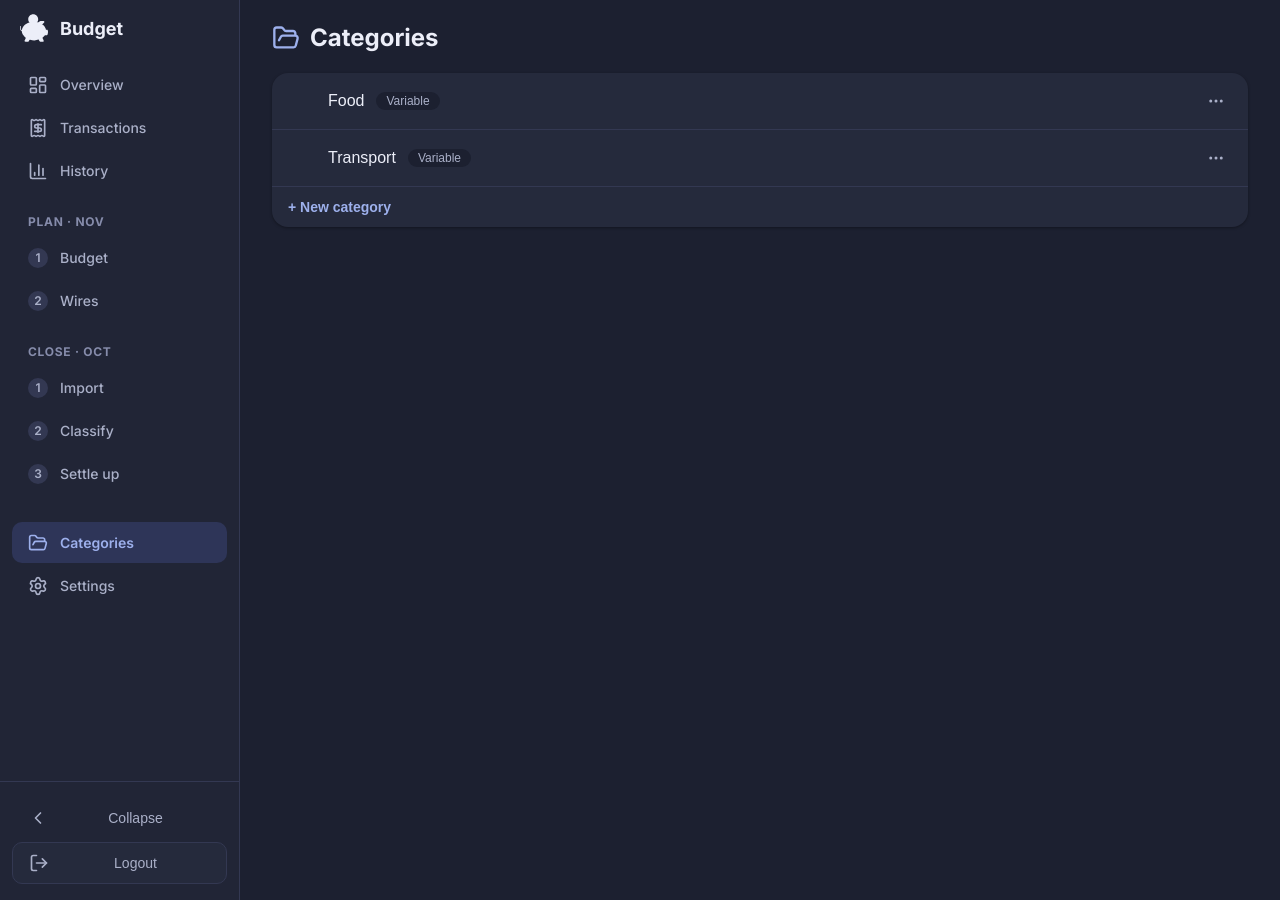
Test: Categories Page › should display categories and allow adding new ones
Check: the text "Food" is shown, box [328,92,364,110]
Check: the text "Transport" is shown, box [328,149,396,167]
Click the button "+ New category" at [340, 207], box [272,187,1248,227]
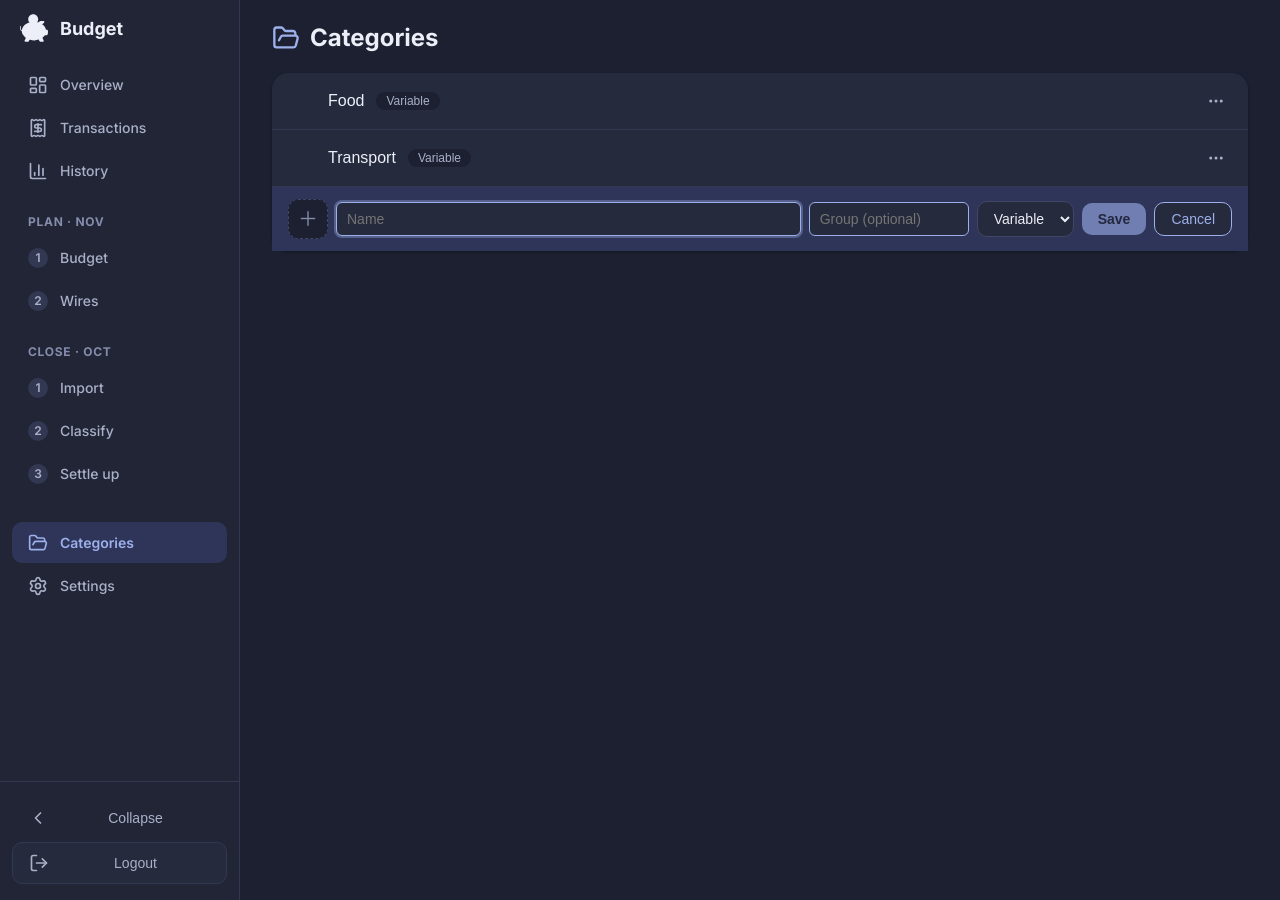
Type "Entertainment" into the field named "Category name" at [568, 219], box [336,202,801,236]
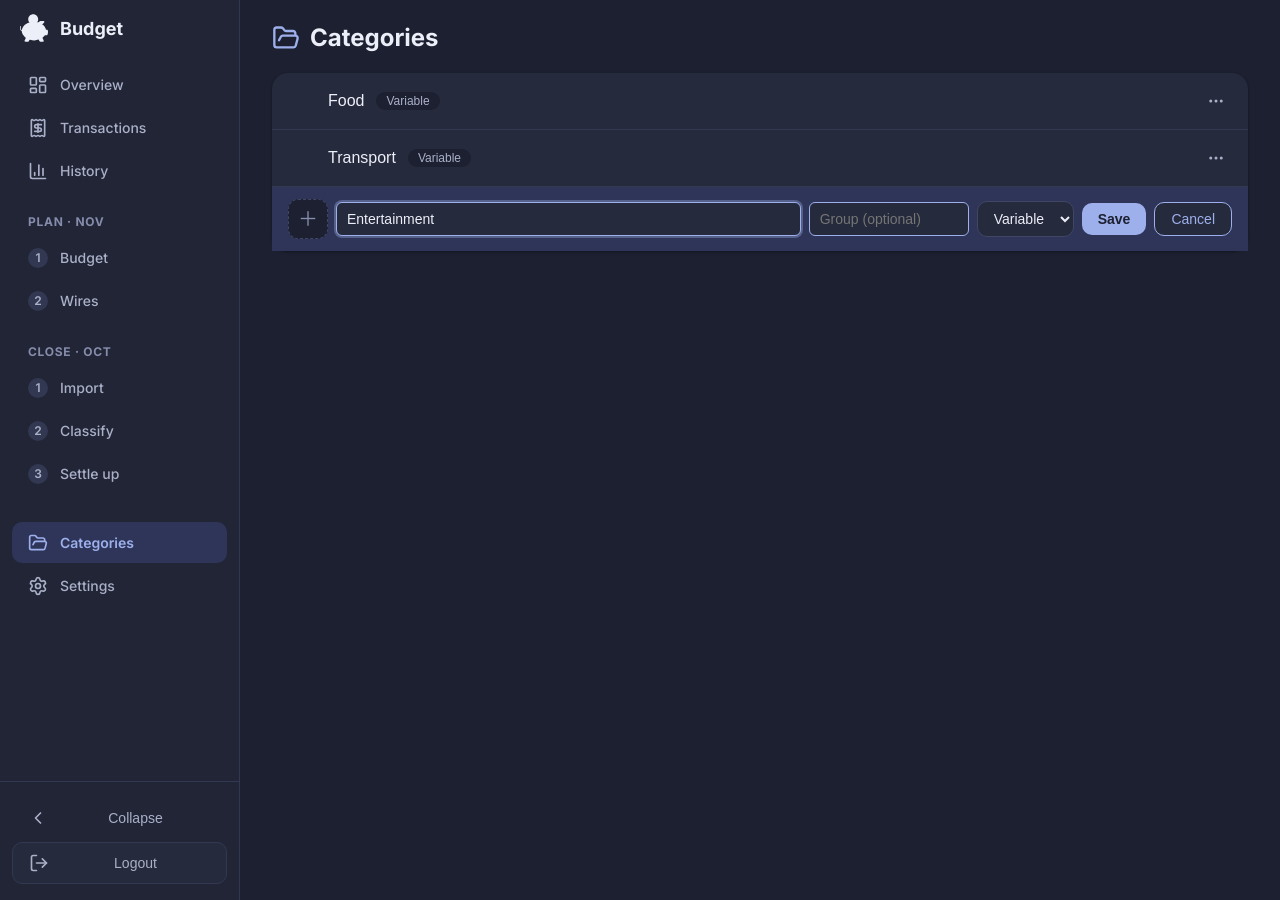
Click the button "Save" at [1114, 219], box [1082,203,1146,235]
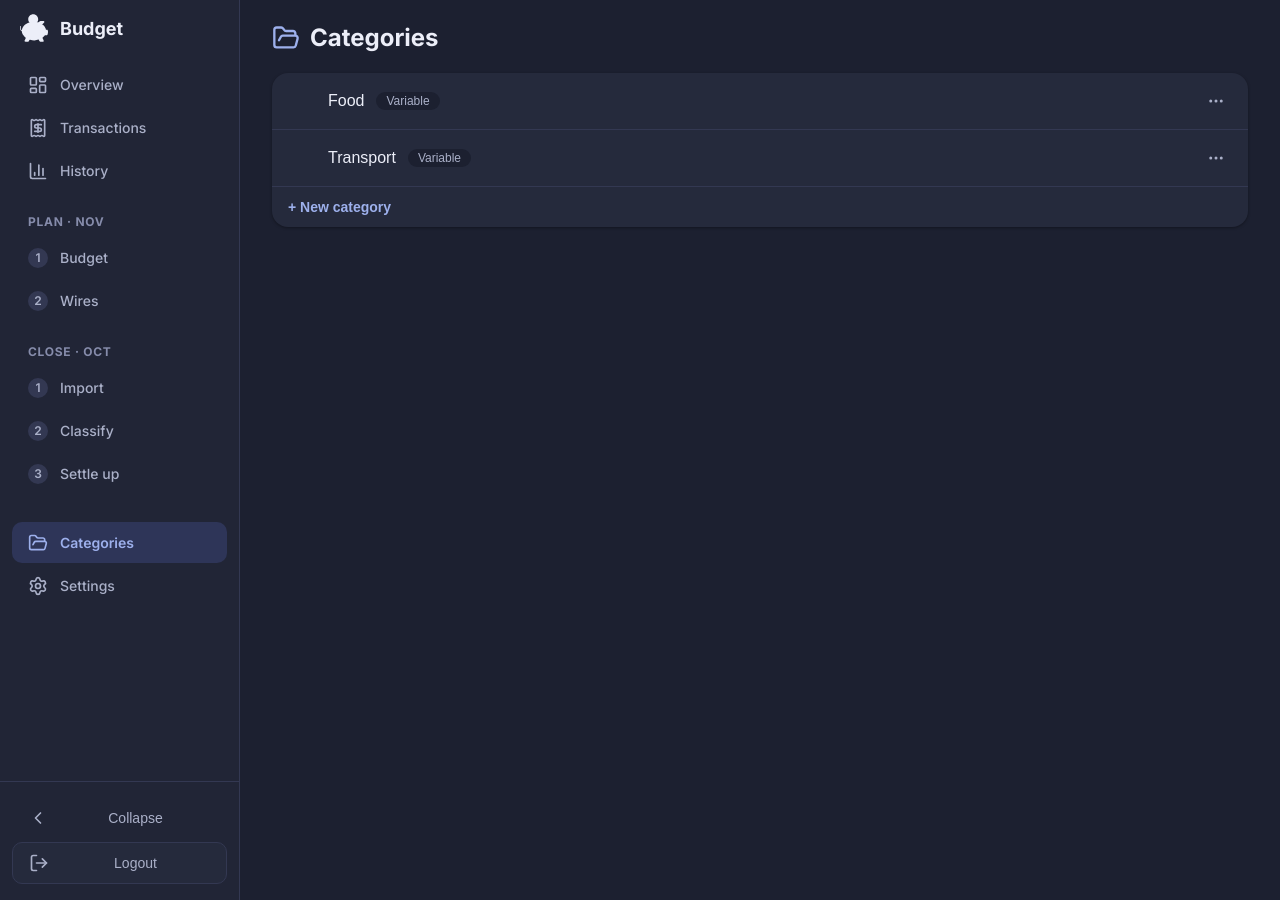
Check: the field labelled "Category name" is gone
